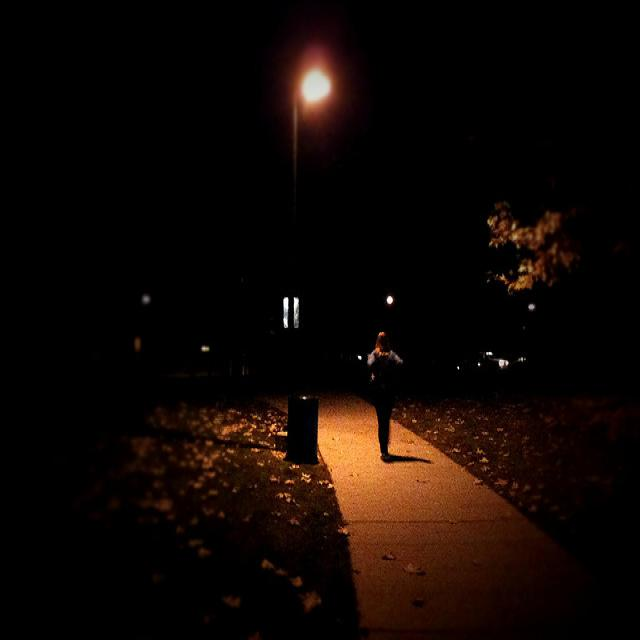People: (364, 325, 410, 470)
